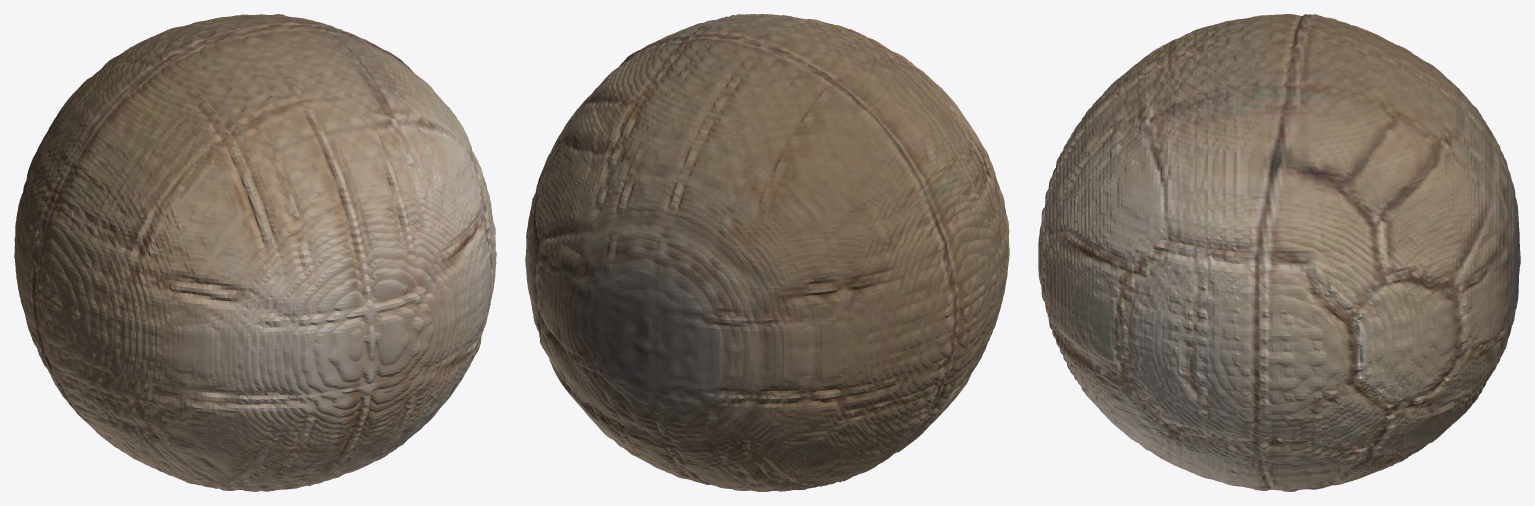
3 views of the same model, side by side, from view 1: azimuth 30°, elevation 25°; view 2: azimuth 150°, elevation 25°; view 3: azimuth 270°, elevation 25° (orthographic).
Visible parts, largest first — view 1: geometry_0; view 2: geometry_0; view 3: geometry_0.
Part boxes in pixels (left/top/right/bottom): geometry_0: left=14, top=14, right=496, bottom=491; geometry_0: left=525, top=14, right=1009, bottom=491; geometry_0: left=1038, top=14, right=1520, bottom=491.
Bounding box in the file's own units: 0.9038 × 0.8982 × 0.9099.
